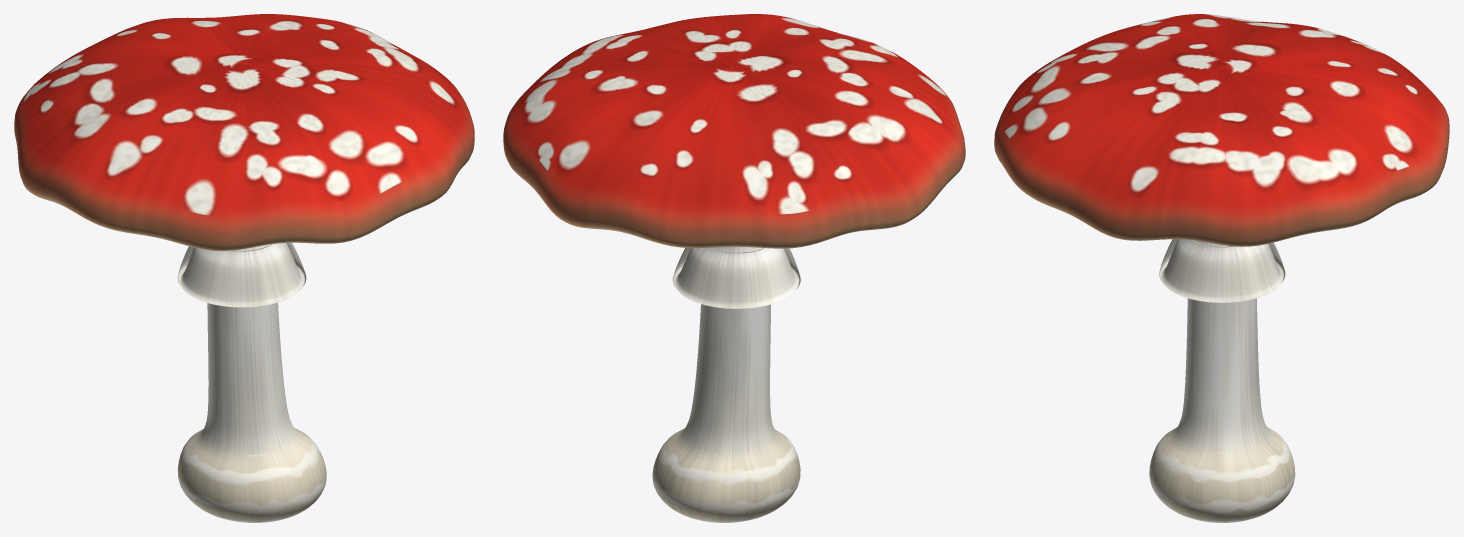
File: amanita-muscaria-drawn.glb
The picture shows the model from 3 angles, left to right: view 1: azimuth 30°, elevation 25°; view 2: azimuth 150°, elevation 25°; view 3: azimuth 270°, elevation 25°; orthographic projection. The views are drawn at different scales.
Size of the model in its own units: 0.8554 by 0.9 by 0.8552.
Materials: 1 (1 with a texture image).
